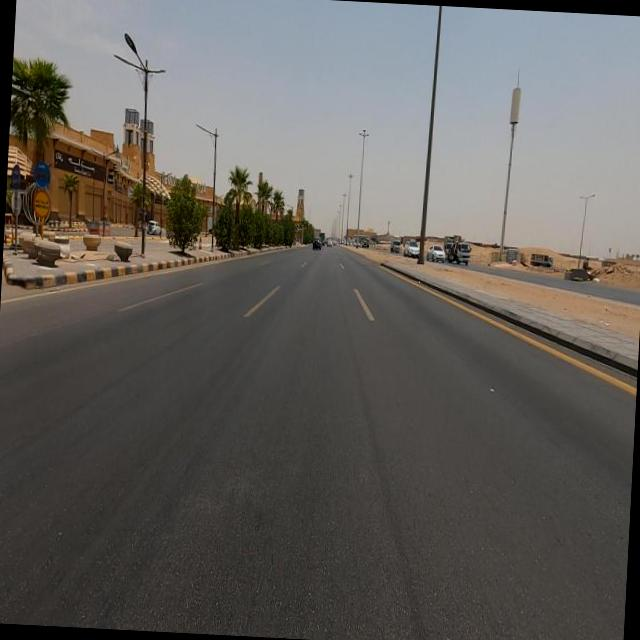debris: (570, 252, 620, 314)
